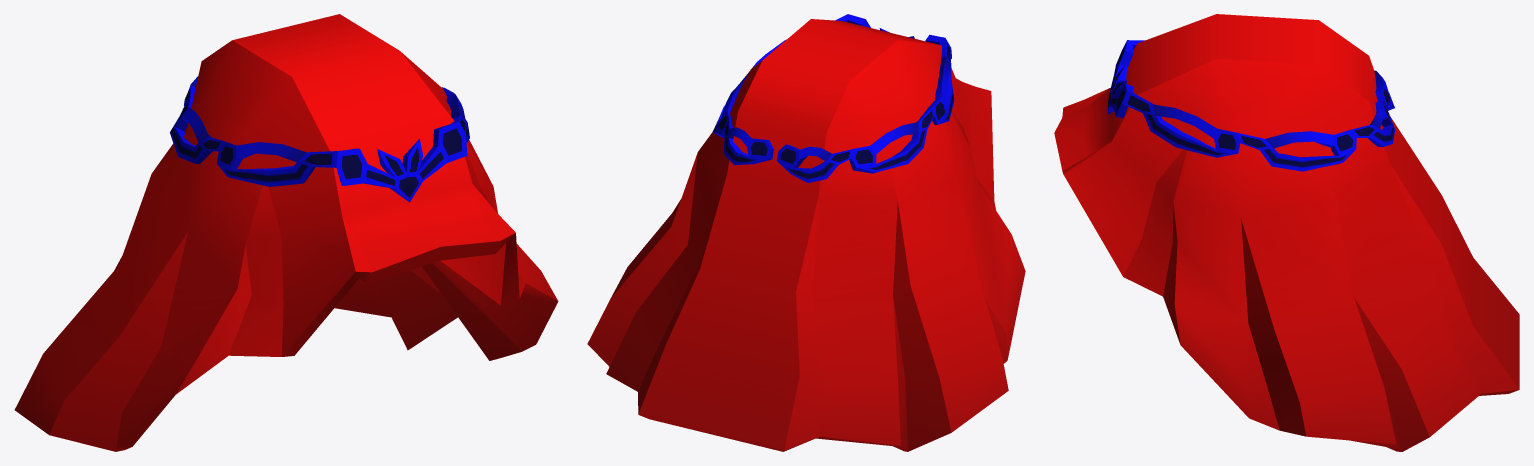
File: VeiledTiara_F.fbx
The picture shows the model from 3 angles, left to right: view 1: azimuth 30°, elevation 25°; view 2: azimuth 150°, elevation 25°; view 3: azimuth 270°, elevation 25°; orthographic projection. The views are drawn at different scales.
Parts seen in each view (by area): view 1: VeiledTiara_F; view 2: VeiledTiara_F; view 3: VeiledTiara_F.
Boxes of the visible parts, box(x1,y1,x2,y2) form: VeiledTiara_F: box(14, 14, 558, 451); VeiledTiara_F: box(587, 14, 1025, 451); VeiledTiara_F: box(1054, 14, 1519, 451).
Bounding box in the file's own units: 46.15 × 36.59 × 44.67.
